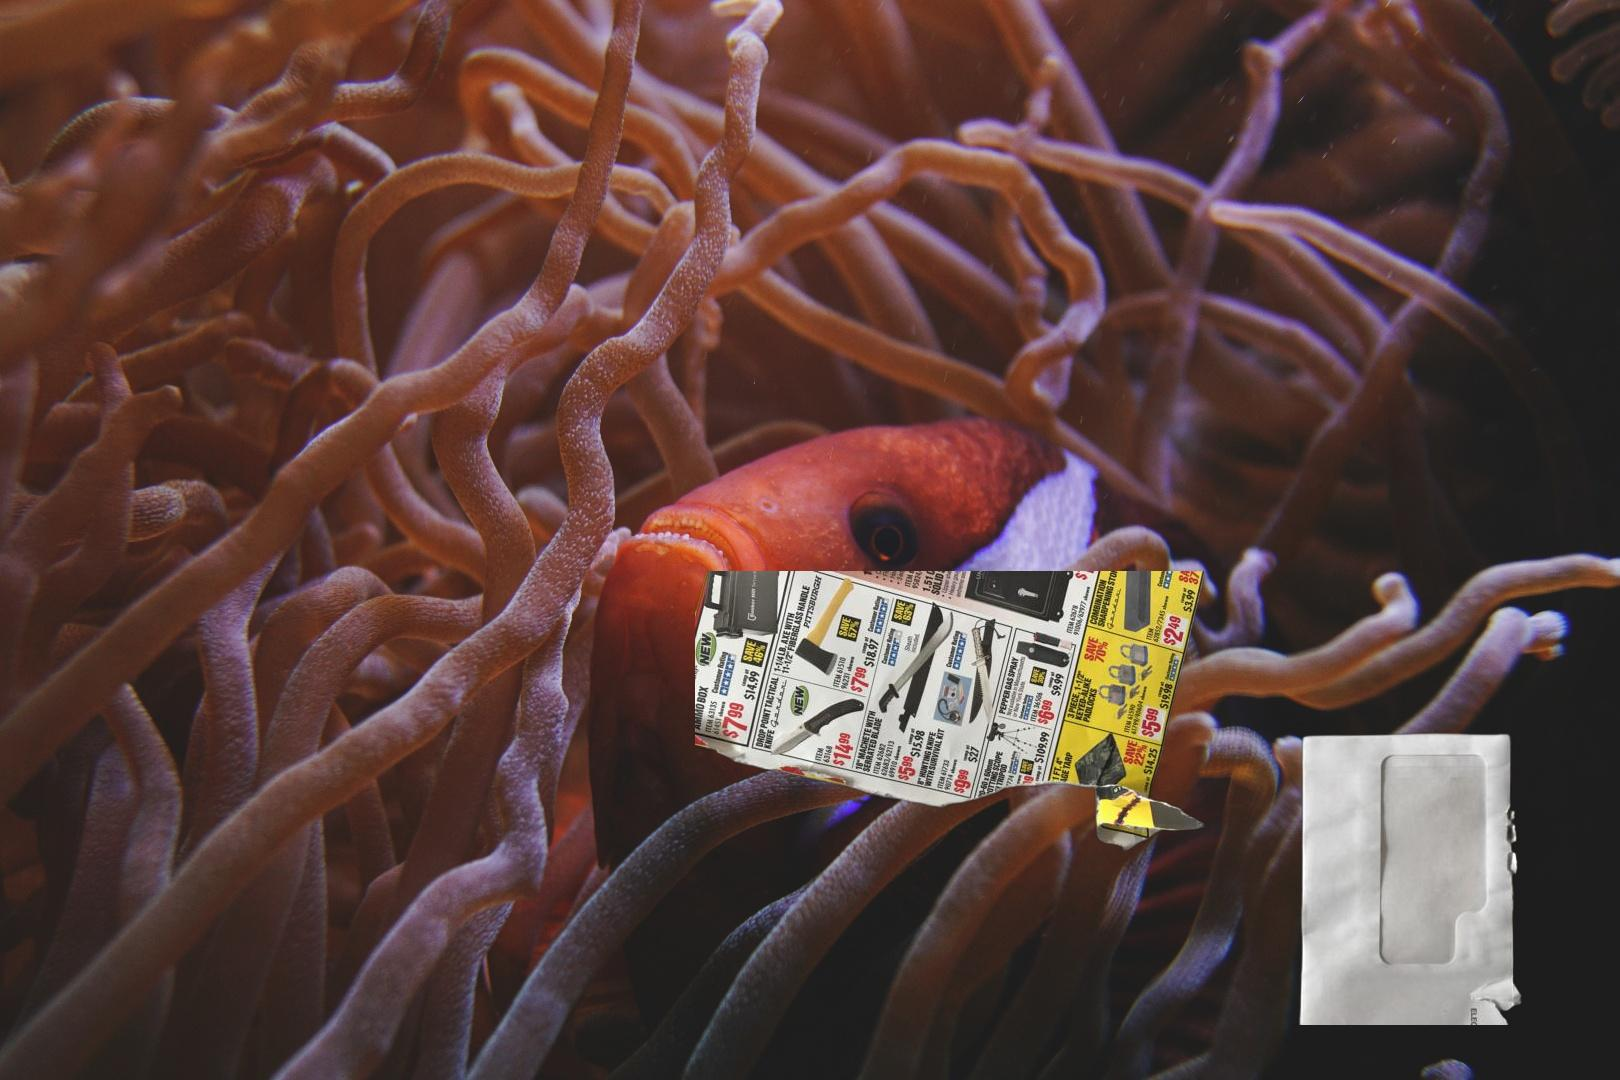paper: (695, 571, 1207, 853), (1295, 730, 1528, 1025)
